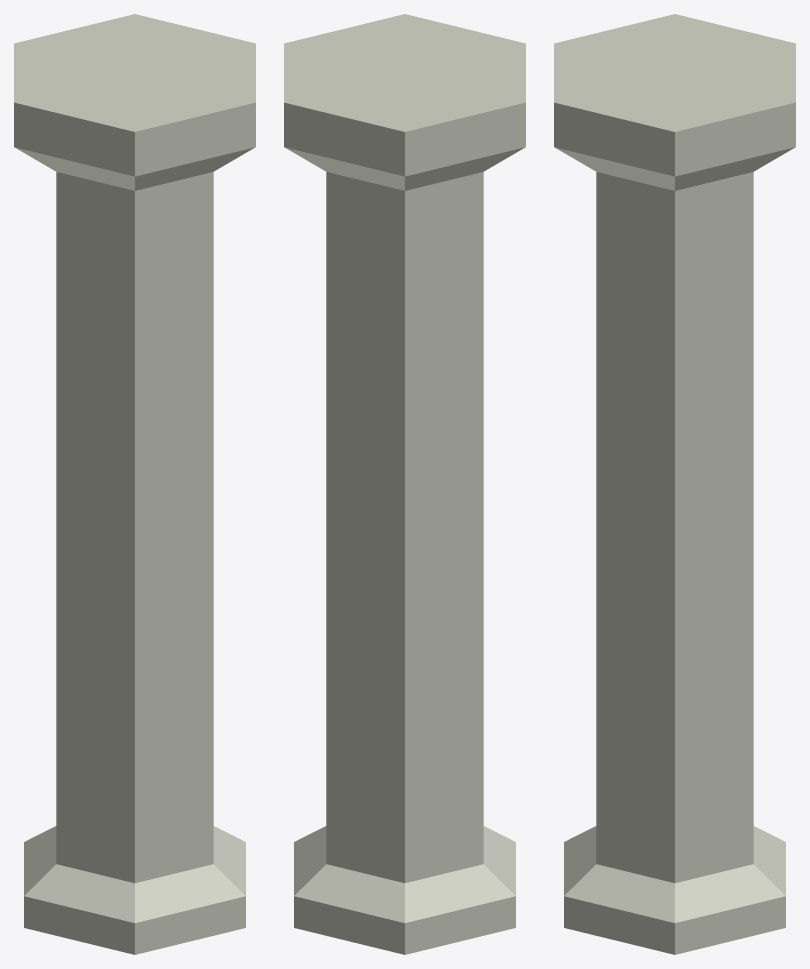
Rendered from DD_Column01.fbx.
The picture shows the model from 3 angles, left to right: view 1: azimuth 30°, elevation 25°; view 2: azimuth 150°, elevation 25°; view 3: azimuth 270°, elevation 25°; orthographic projection.
Parts seen in each view (by area): view 1: DD_Column01; view 2: DD_Column01; view 3: DD_Column01.
Part boxes in pixels (x1,y1,x2,y2): DD_Column01: (14, 14, 255, 954); DD_Column01: (284, 14, 525, 954); DD_Column01: (554, 14, 795, 954).
Bounding box in the file's own units: 44.25 × 145 × 38.32.
1 material, 1 textured.
